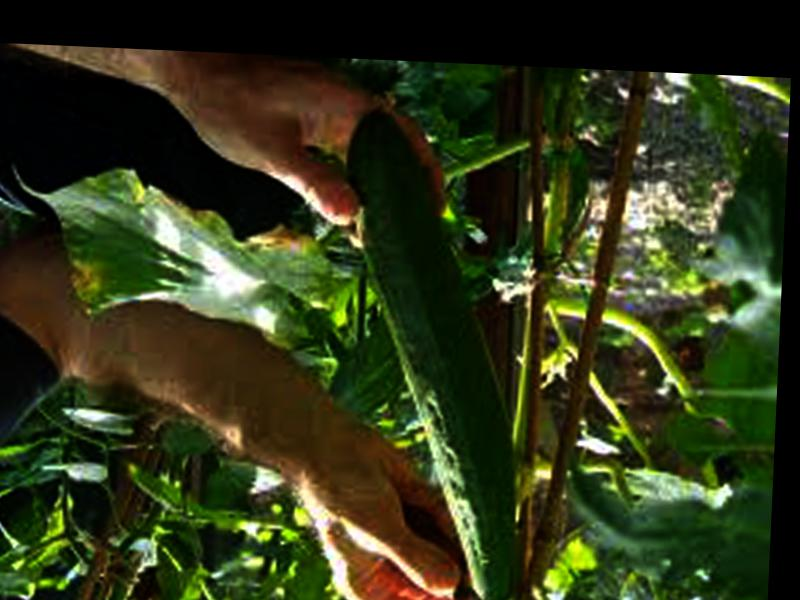Cucumber: (330, 110, 539, 600)
